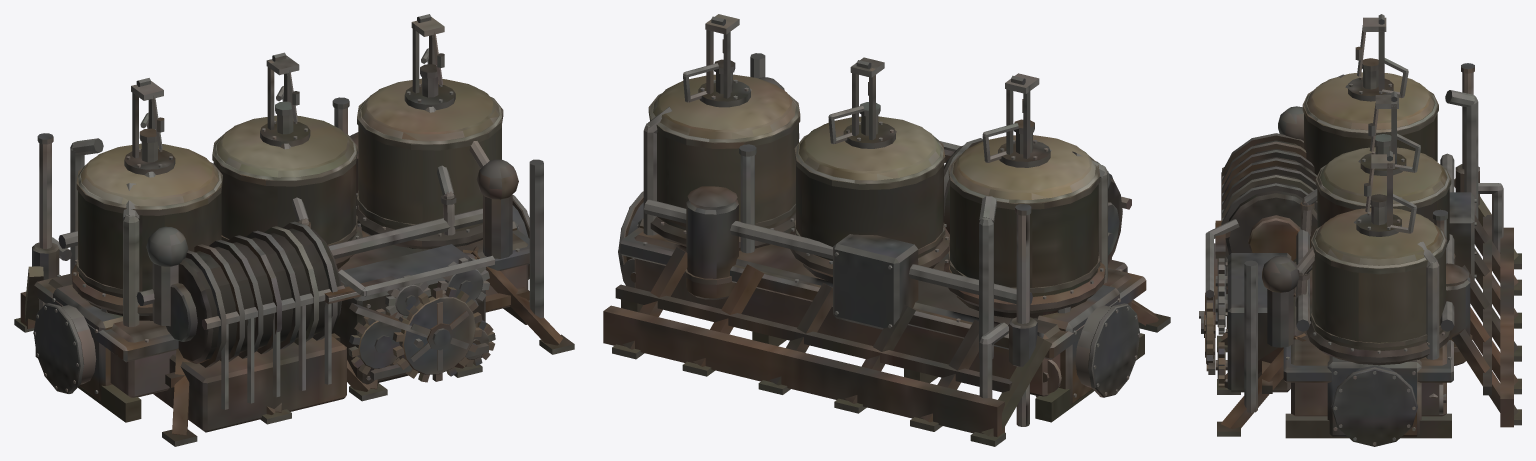
File: steam-engine-east.glb
The picture shows the model from 3 angles, left to right: view 1: azimuth 30°, elevation 25°; view 2: azimuth 150°, elevation 25°; view 3: azimuth 270°, elevation 25°; orthographic projection. The views are drawn at different scales.
Visible parts, largest first — view 1: body, anim_spin_flywheel_ns; view 2: body; view 3: body, anim_spin_flywheel_ns.
Part boxes in pixels (x1,y1,x2,y2): body: [14, 14, 574, 446]; anim_spin_flywheel_ns: [392, 287, 482, 382]; body: [603, 14, 1170, 446]; body: [1205, 14, 1521, 446]; anim_spin_flywheel_ns: [1199, 292, 1215, 371].
Size of the model in its own units: 5 by 3 by 3.29.
1 material, 1 textured.
